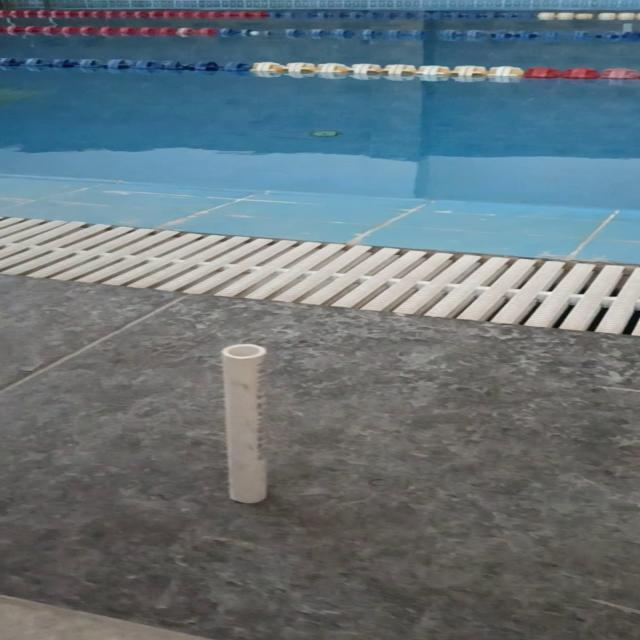Cube: (218, 342, 268, 503)
